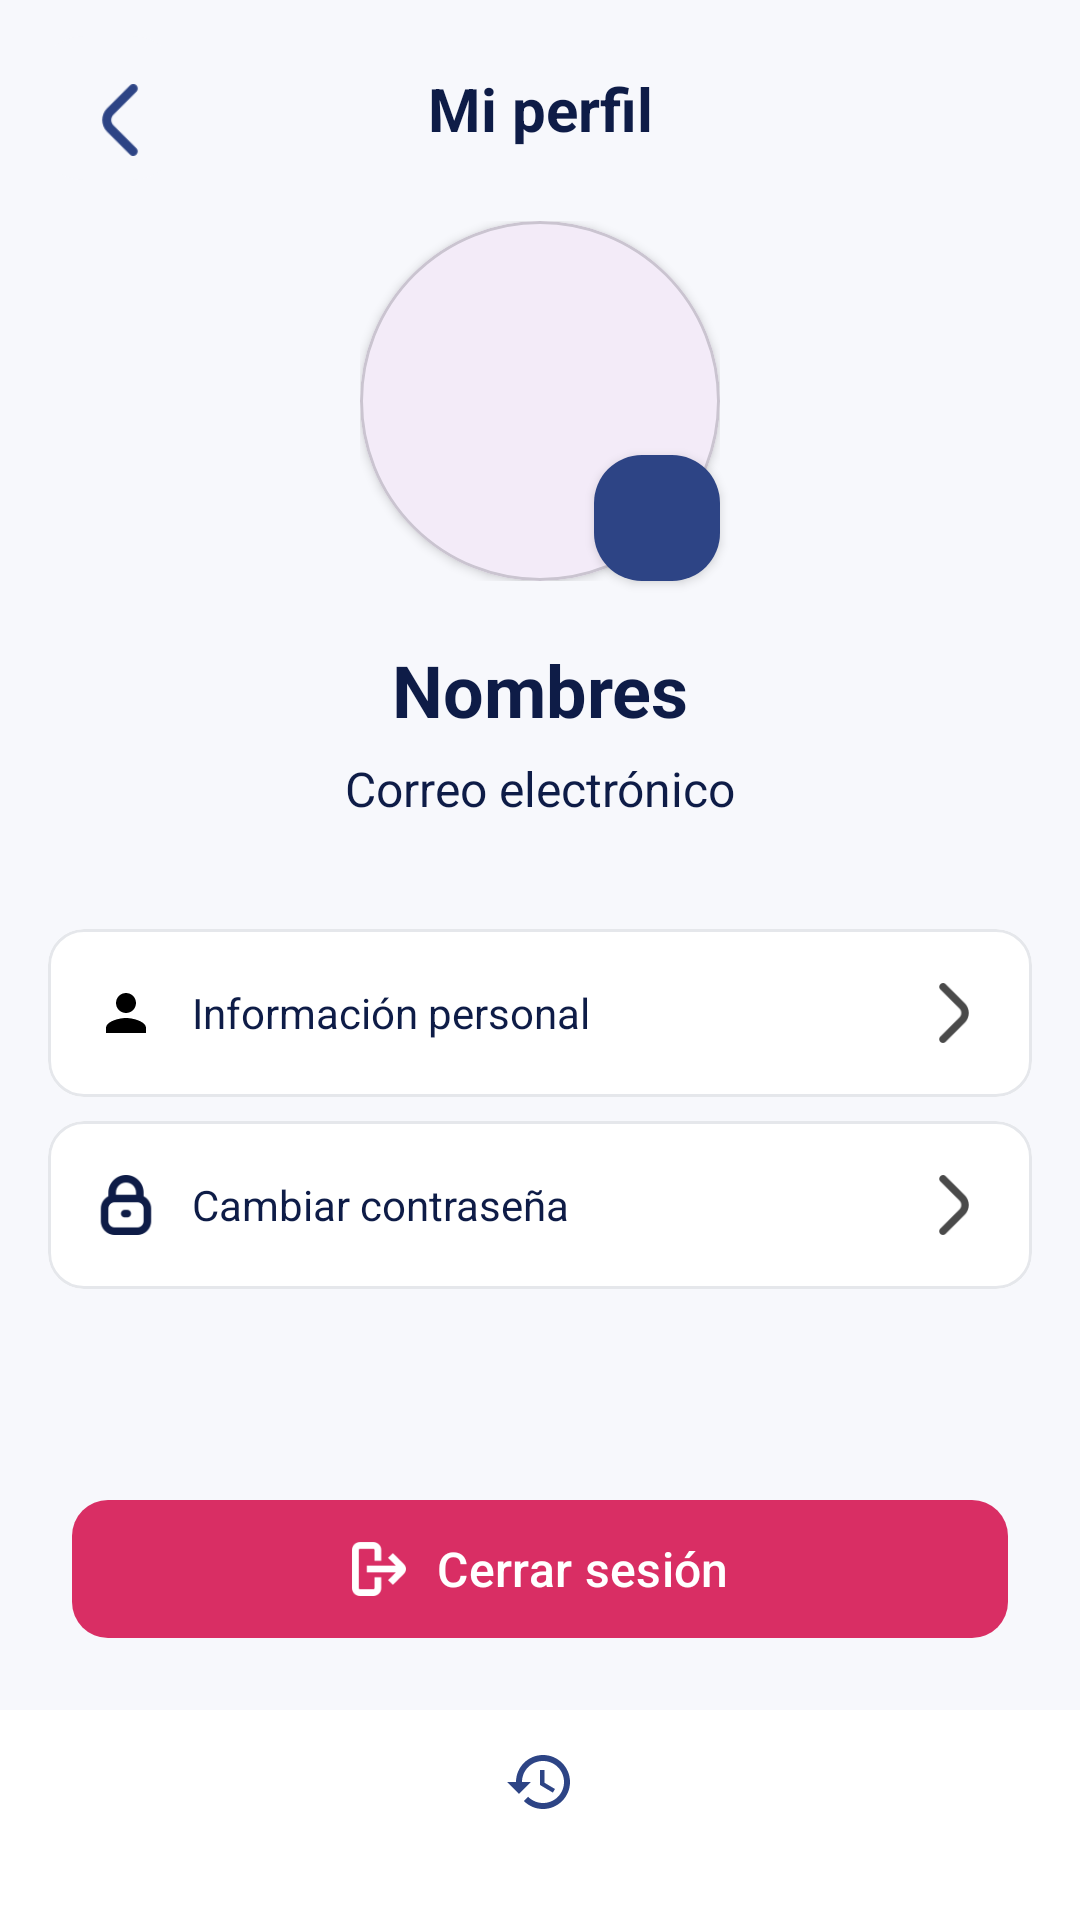

Named icons in this screenshot (1080px x 1920px) and their centers, (x=x, y=y):
arrow right: (x=954, y=1013), (x=954, y=1205)
Retroceder: (x=120, y=120)
segurity: (x=126, y=1205)
